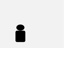human: (14, 22, 26, 43)
